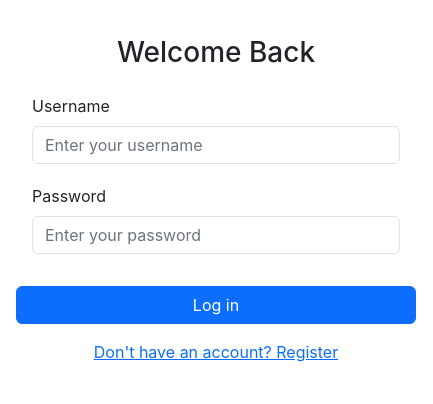
Scenario: Login Component › Form Validation › shows validation errors for empty fields
This screenshot has width=433, height=404.
Click the button "Log in": (216, 305) [16,286,416,324]
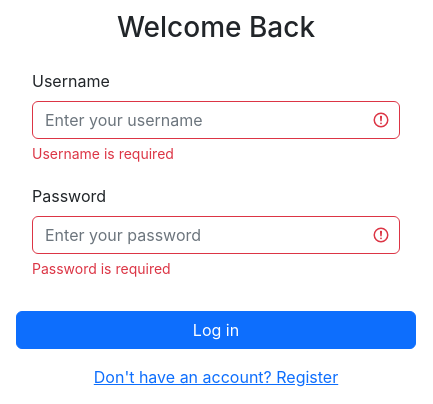
Expected: the text "Username is required" is shown, [32,145,174,162]
Expected: the text "Password is required" is shown, [32,260,171,277]
